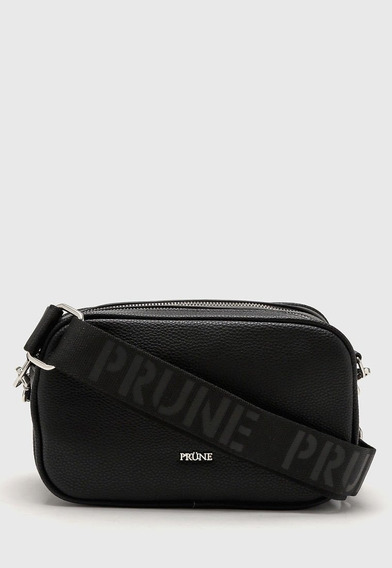cartera: (11, 296, 380, 519)
